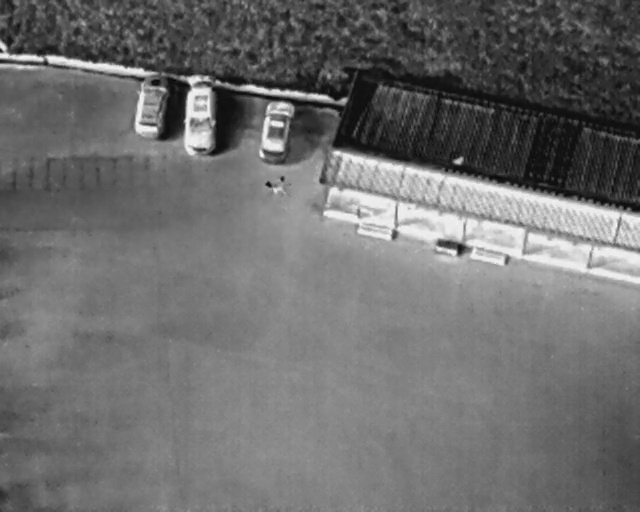Car: (130, 71, 173, 142), (256, 98, 297, 166), (185, 78, 217, 156)
Person: (277, 173, 287, 198)
